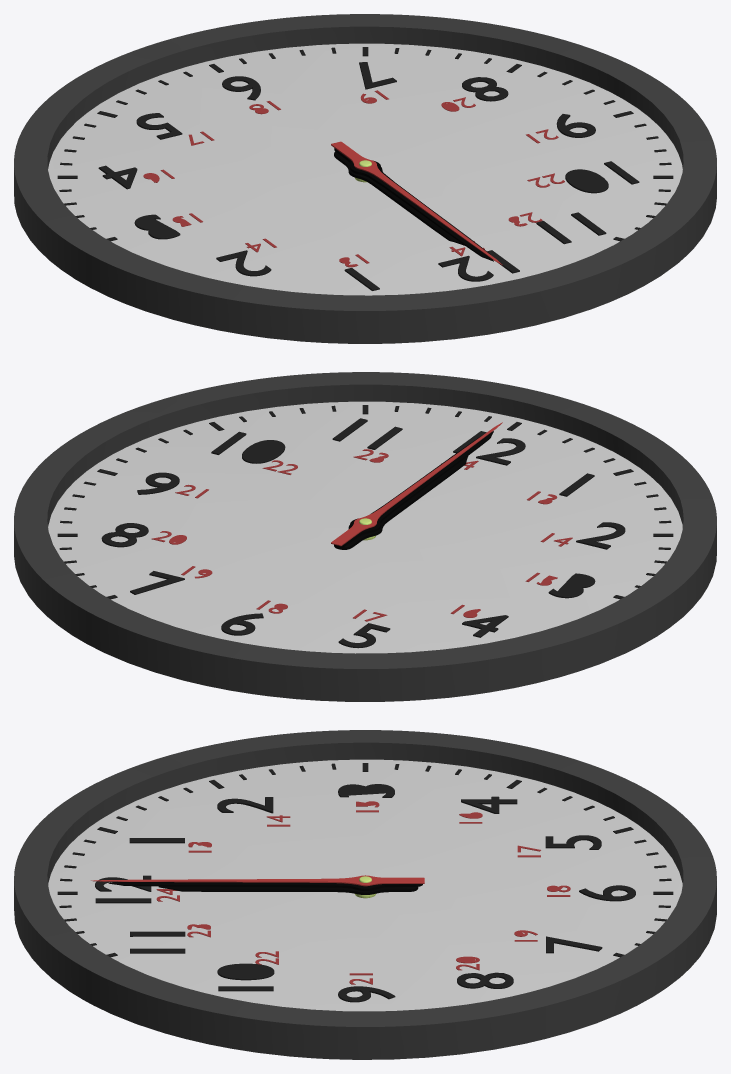
File: Clock_Release_Day.fbx
The picture shows the model from 3 angles, top to bottom: view 1: azimuth 30°, elevation 25°; view 2: azimuth 150°, elevation 25°; view 3: azimuth 270°, elevation 25°; orthographic projection.
Parts seen in each view (by area): view 1: Clock, Numbers, SmallNumbers, Minutes_N, Seconds, Minutes, Hour; view 2: Clock, Numbers, SmallNumbers, Minutes_N, Seconds, Minutes, Hour; view 3: Clock, Numbers, SmallNumbers, Minutes_N, Seconds, Minutes, Hour.
Boxes of the visible parts, box(x1,y1,x2,y2) form: Clock: box(14, 14, 716, 343); Numbers: box(98, 62, 639, 290); SmallNumbers: box(143, 90, 564, 267); Minutes_N: box(57, 47, 673, 241); Seconds: box(331, 141, 502, 265); Minutes: box(334, 148, 493, 261); Hour: box(334, 151, 464, 245); Clock: box(14, 372, 716, 701); Numbers: box(101, 418, 625, 648); SmallNumbers: box(151, 449, 572, 621); Minutes_N: box(57, 405, 673, 599); Seconds: box(331, 422, 502, 546); Minutes: box(334, 431, 493, 547); Hour: box(334, 456, 468, 549); Clock: box(14, 730, 716, 1059); Numbers: box(95, 784, 635, 1002); SmallNumbers: box(156, 801, 570, 984); Minutes_N: box(57, 763, 673, 957); Seconds: box(91, 875, 424, 886); Minutes: box(108, 881, 422, 890); Hour: box(158, 886, 418, 894).
Size of the model in its own units: 576 by 32.08 by 576.
